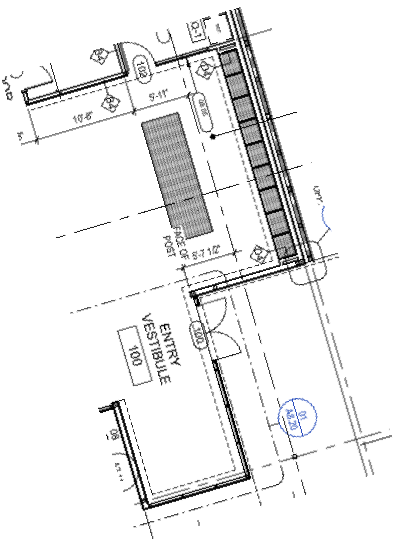door: (112, 36, 161, 76)
double door: (186, 292, 243, 363)
